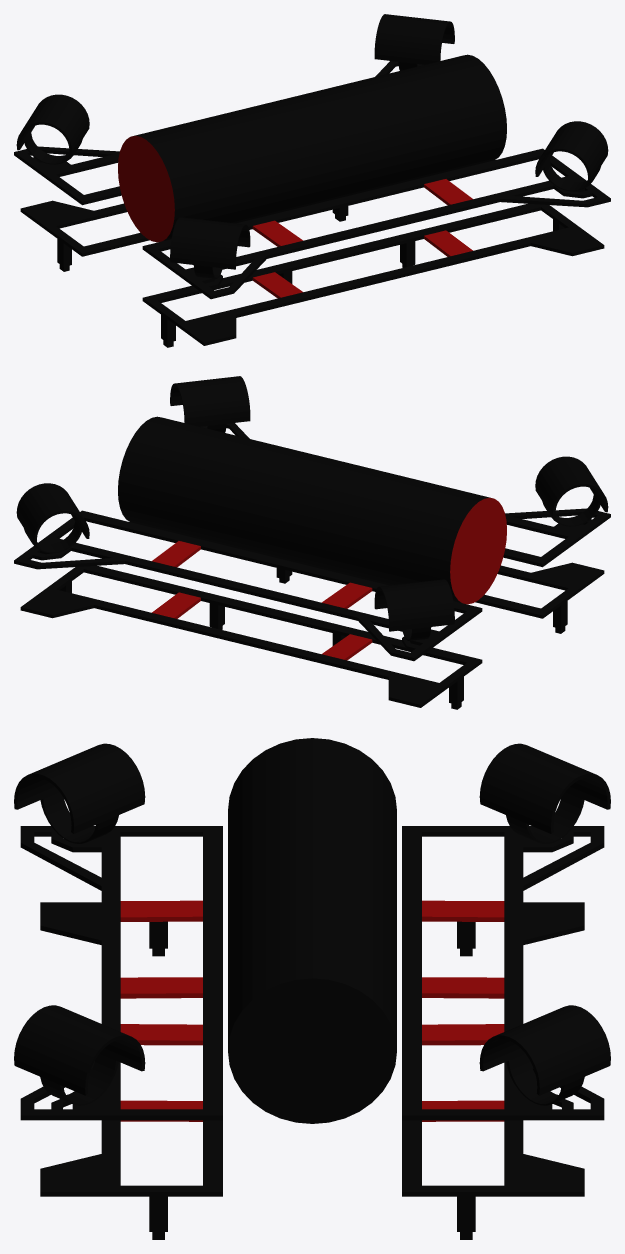
File: Puddles.dae
The picture shows the model from 3 angles, top to bottom: view 1: azimuth 30°, elevation 25°; view 2: azimuth 150°, elevation 25°; view 3: azimuth 270°, elevation 25°; orthographic projection. The views are drawn at different scales.
Parts seen in each view (by area): view 1: Cylinder; view 2: Cylinder; view 3: Cylinder.
Boxes of the visible parts, x1=… form: Cylinder: x1=14, y1=14, x2=610, y2=347; Cylinder: x1=14, y1=376, x2=610, y2=709; Cylinder: x1=14, y1=738, x2=610, y2=1239.
Size of the model in its own units: 0.9709 by 0.7725 by 0.3397.
